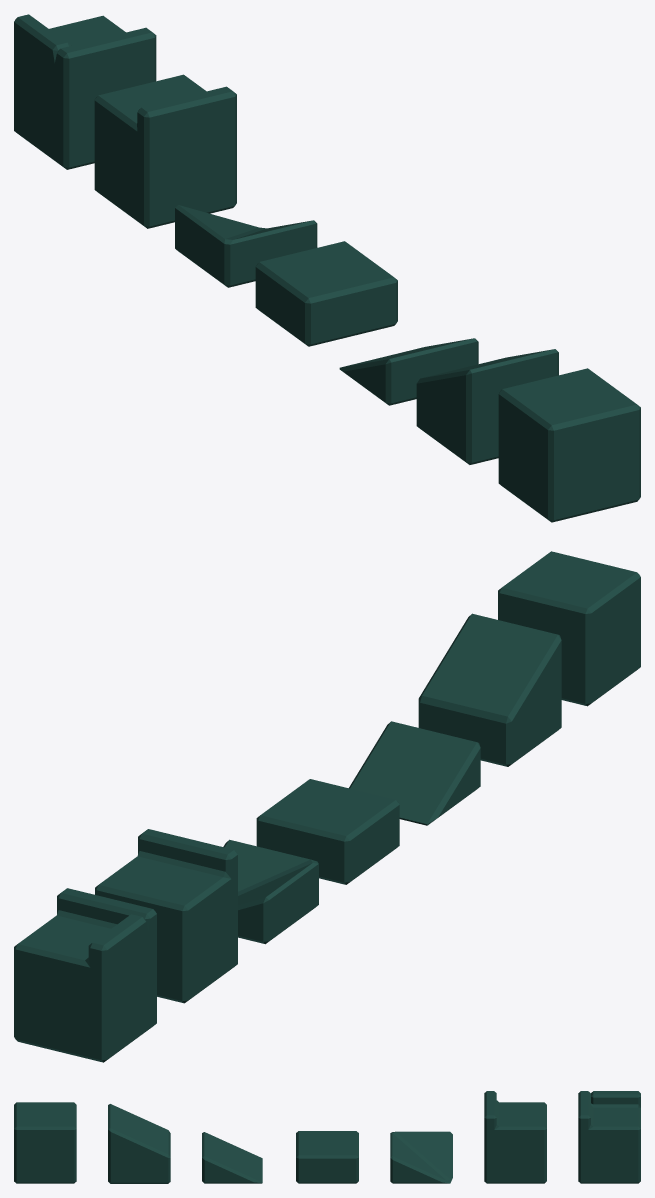
Rendered from world-blocks-v1.glb.
The picture shows the model from 3 angles, top to bottom: view 1: azimuth 30°, elevation 25°; view 2: azimuth 150°, elevation 25°; view 3: azimuth 270°, elevation 25°; orthographic projection. The views are drawn at different scales.
Parts seen in each view (by area): view 1: BlockWall, Block, BlockWallCorner, BlockShort, RampTop, RampLowerCorner, RampBottom; view 2: BlockWallCorner, RampTop, BlockWall, Block, BlockShort, RampBottom, RampLowerCorner; view 3: BlockWallCorner, BlockWall, Block, RampTop, BlockShort, RampLowerCorner, RampBottom.
Part boxes in pixels (<box>): BlockWall: <box>94,74,236,228</box>; Block: <box>498,368,640,522</box>; BlockWallCorner: <box>14,14,156,169</box>; BlockShort: <box>255,241,397,346</box>; RampTop: <box>416,349,558,464</box>; RampLowerCorner: <box>175,205,317,287</box>; RampBottom: <box>339,338,478,405</box>; BlockWallCorner: <box>14,888,156,1062</box>; RampTop: <box>418,613,561,766</box>; BlockWall: <box>95,829,237,1003</box>; Block: <box>498,551,640,706</box>; BlockShort: <box>256,779,399,884</box>; RampBottom: <box>349,721,480,825</box>; RampLowerCorner: <box>223,839,318,944</box>; BlockWallCorner: <box>578,1091,640,1183</box>; BlockWall: <box>484,1091,546,1183</box>; Block: <box>14,1102,76,1183</box>; RampTop: <box>108,1104,170,1183</box>; BlockShort: <box>296,1131,358,1183</box>; RampLowerCorner: <box>390,1131,452,1183</box>; RampBottom: <box>202,1132,262,1183</box>.
Size of what is drawn, in the model's own units: 2.03 by 2.41 by 20.
